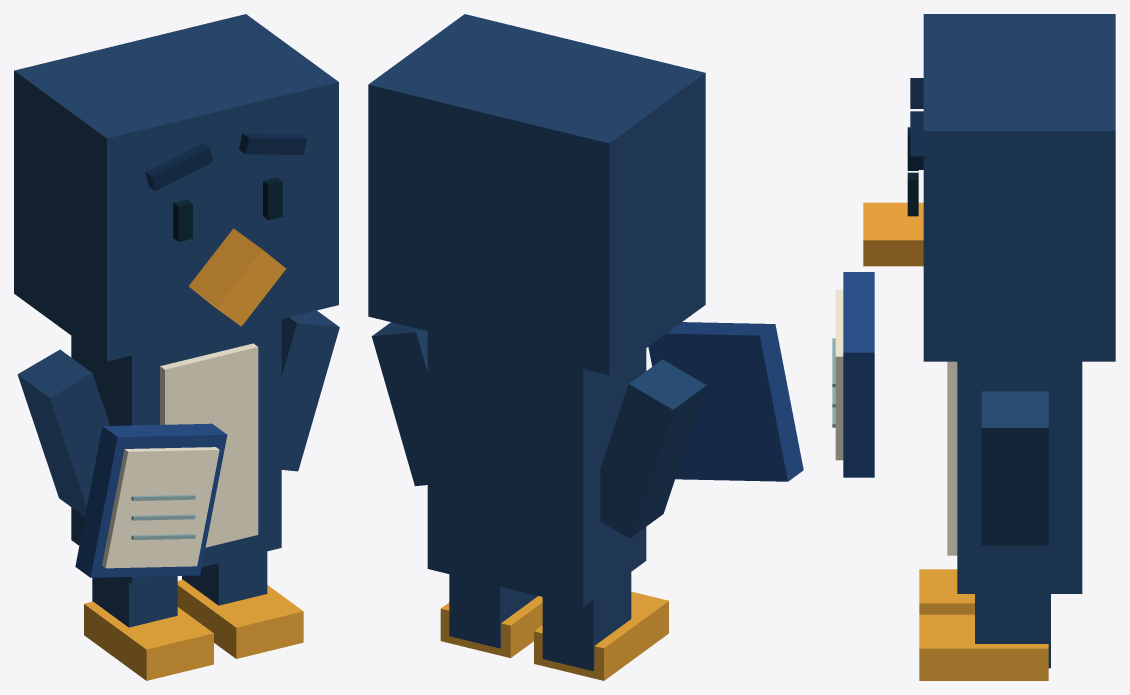
Rendered from penguin.glb.
3 views of the same model, side by side, from view 1: azimuth 30°, elevation 25°; view 2: azimuth 150°, elevation 25°; view 3: azimuth 270°, elevation 25° (orthographic). The views are drawn at different scales.
Parts seen in each view (by area): view 1: penguin-part-00, penguin-part-01, penguin-part-02, penguin-part-13, penguin-part-05, penguin-part-12, penguin-part-04, penguin-part-08, penguin-part-07, penguin-part-09, penguin-part-03, penguin-part-06 (+4 smaller); view 2: penguin-part-00, penguin-part-01, penguin-part-12, penguin-part-05, penguin-part-08, penguin-part-03, penguin-part-04, penguin-part-06, penguin-part-07; view 3: penguin-part-00, penguin-part-01, penguin-part-08, penguin-part-12, penguin-part-07, penguin-part-06, penguin-part-09, penguin-part-04, penguin-part-02, penguin-part-13, penguin-part-11, penguin-part-18 (+1 smaller).
Part boxes in pixels (left/top/right/bottom): penguin-part-00: left=14, top=14, right=338, bottom=361; penguin-part-01: left=71, top=319, right=281, bottom=584; penguin-part-02: left=160, top=343, right=258, bottom=547; penguin-part-13: left=102, top=447, right=219, bottom=568; penguin-part-05: left=17, top=349, right=109, bottom=516; penguin-part-12: left=75, top=423, right=227, bottom=577; penguin-part-04: left=84, top=601, right=213, bottom=680; penguin-part-08: left=281, top=310, right=339, bottom=471; penguin-part-07: left=177, top=579, right=303, bottom=658; penguin-part-09: left=188, top=228, right=286, bottom=326; penguin-part-03: left=92, top=576, right=177, bottom=627; penguin-part-06: left=182, top=551, right=267, bottom=605; penguin-part-00: left=368, top=14, right=705, bottom=375; penguin-part-01: left=427, top=331, right=646, bottom=606; penguin-part-12: left=648, top=322, right=803, bottom=481; penguin-part-05: left=600, top=359, right=706, bottom=538; penguin-part-08: left=371, top=322, right=427, bottom=486; penguin-part-03: left=542, top=572, right=631, bottom=670; penguin-part-04: left=534, top=591, right=668, bottom=680; penguin-part-06: left=449, top=574, right=537, bottom=648; penguin-part-07: left=440, top=596, right=542, bottom=658; penguin-part-00: left=923, top=14, right=1115, bottom=361; penguin-part-01: left=957, top=361, right=1082, bottom=593; penguin-part-08: left=981, top=391, right=1048, bottom=545; penguin-part-12: left=843, top=272, right=874, bottom=477; penguin-part-07: left=919, top=614, right=1048, bottom=680; penguin-part-06: left=975, top=594, right=1050, bottom=668; penguin-part-09: left=863, top=202, right=923, bottom=266; penguin-part-04: left=919, top=569, right=974, bottom=614; penguin-part-02: left=947, top=361, right=957, bottom=555; penguin-part-13: left=835, top=289, right=843, bottom=460; penguin-part-11: left=910, top=111, right=923, bottom=169; penguin-part-18: left=907, top=172, right=918, bottom=216.
Bounding box in the file's own units: 1.69 × 2.81 × 1.27.
